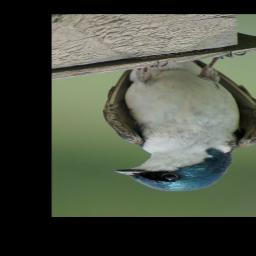Swallow: (101, 49, 256, 193)
